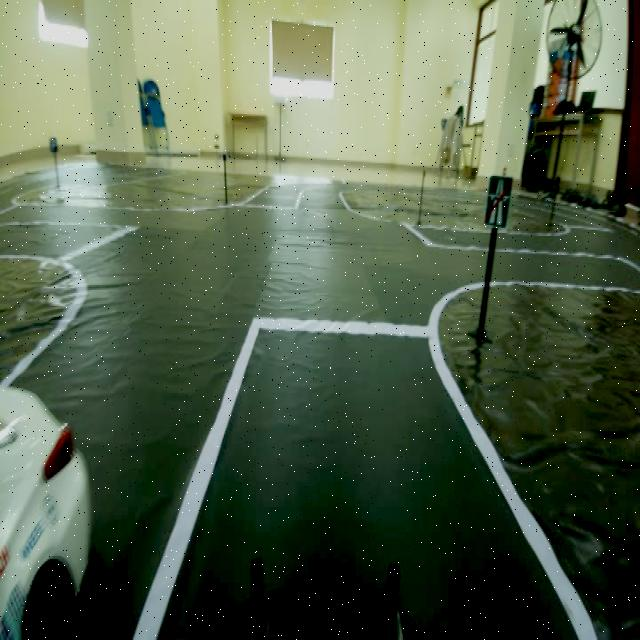highway_exit: (480, 170, 514, 242)
